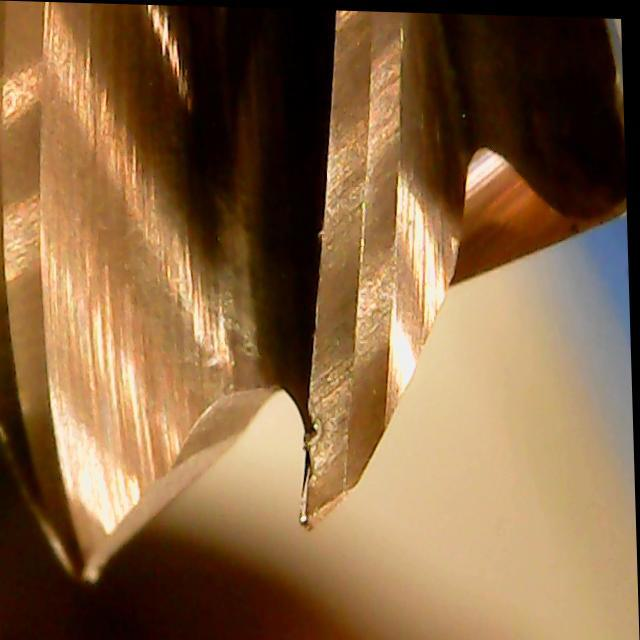Tool-wear-class-1: (279, 237, 424, 532)
